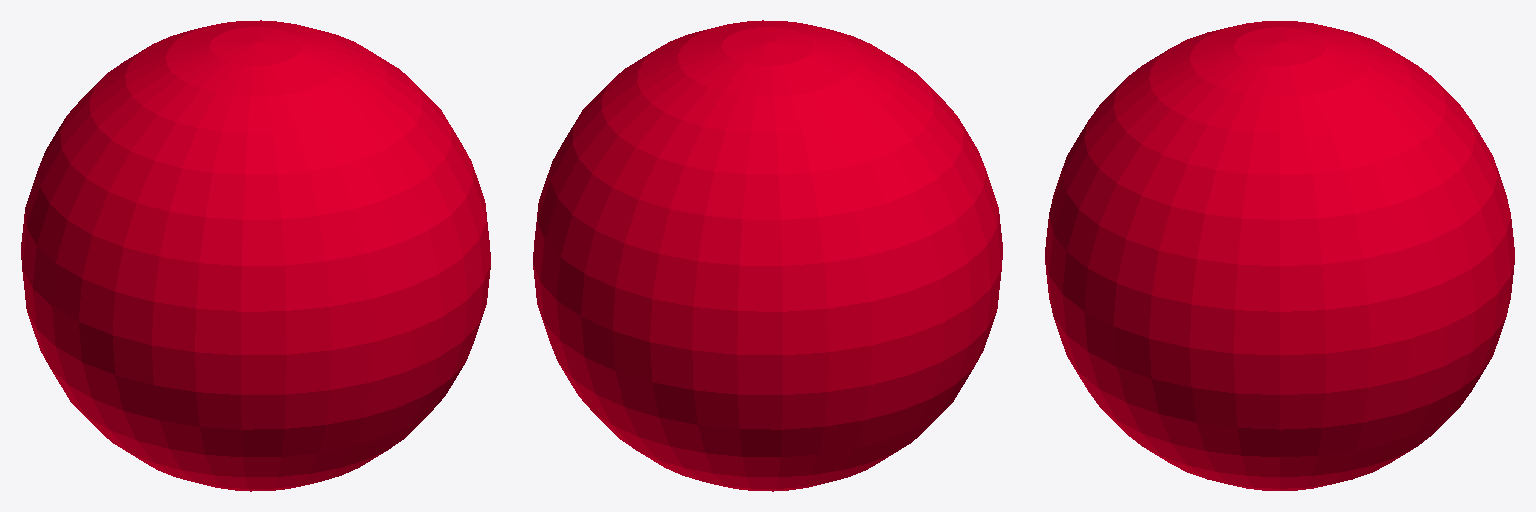
URDF robot description (universal_robot):
<?xml version="1.0"?>
<!--FOR GRIPPER, THERE IS NO LINK INERTIA DEFINED HERE-->
<robot name="universal_robot">

  <!-- DigiTac -->
  <link
    name="digitac_body_link">
  <inertial>
      <origin
        xyz="0.0044483897843889 -0.0137570316187898 -1.33478473442024E-08+0.035"
        rpy="0 0 0" />
      <mass
        value="0.00791827593084163" />
      <inertia
        ixx="7.86145751817283E-07"
        ixy="-4.85149902505629E-09"
        ixz="4.89421524982813E-12"
        iyy="1.59818901807298E-06"
        iyz="-2.18755873901251E-12"
        izz="1.06961344577448E-06" />
    </inertial>
    <visual>
      <origin
        xyz="0 0 0.035"
        rpy="0 0 0" />
      <geometry>
        <mesh
          filename="body/digitac_body.stl" />
      </geometry>
      <material name="whitish">
       <color rgba="0.8 0.8 0.8 1.0"/>
     </material>
    </visual>
    <collision>
      <origin
        xyz="0 0 0.035"
        rpy="0 0 0" />
      <geometry>
        <mesh
          filename="body/digitac_body.stl" />
      </geometry>
    </collision>
  </link>

  <link
    name="digitac_tip_link">
        <inertial>
      <origin
        xyz="1.95689617055233E-05 -0.00418318281817305 -0.00513072481258713-0.035"
        rpy="0 0 0" />
      <mass
        value="0.000211579321175967" />
      <inertia
        ixx="1.6421406108058E-08"
        ixy="-3.59682768116548E-11"
        ixz="8.26721658003392E-12"
        iyy="1.10821033019274E-08"
        iyz="-1.94916165896316E-10"
        izz="2.23470337659004E-08" />
    </inertial>
    <visual>
      <origin
        xyz="0 0 -0.035"
        rpy="0 0 0" />
      <geometry>
        <mesh
          filename="tip/digitac_skin.stl" />
      </geometry>
      <material name="black">
         <color rgba="0.0 0.0 0.0 1.0"/>
     </material>
    </visual>
    <collision>
      <origin
        xyz="0 0 -0.035"
        rpy="0 0 0" />
      <geometry>
        <mesh
          filename="tip/digitac_skin.stl" />
      </geometry>
    </collision>
  </link>


  <joint
    name="tactip_tip_to_body"
    type="fixed">
    <origin
      xyz="0 0 0"
      rpy="3.14159265358979 0 -1.5707963267949" />
    <parent
      link="digitac_body_link" />
    <child
      link="digitac_tip_link" />
    <axis
      xyz="0 0 0" />
  </joint>


  <!-- TCP -->
  <link name="tcp_link">
    <visual>
      <origin rpy="0 0 0" xyz="0 0 0"/>
      <geometry>
        <sphere radius="0.001"/>
      </geometry>
      <material name="TransparentRed">
        <color rgba="0.9 0 0.2 0.5"/>
      </material>
    </visual>
    <inertial>
      <mass value="0.0"/>
      <origin rpy="0.0 0.0 1.57" xyz="0.0 0.0 0.0"/>
      <inertia ixx="1.0" ixy="0.0" ixz="0.0" iyy="1.0" iyz="0.0" izz="1.0"/>
    </inertial>
  </link>

  <joint name="tcp_joint" type="fixed">
    <parent link="digitac_body_link"/>
    <child link="tcp_link"/>
    <origin rpy="0 0 0" xyz="0.0007 0.0 0.045"/>
  </joint>

</robot>

--- What the picture shows (computed from the rendered views, not written in the file) ---
The picture shows the robot from 3 angles, left to right: view 1: azimuth 30°, elevation 25°; view 2: azimuth 150°, elevation 25°; view 3: azimuth 270°, elevation 25°; orthographic projection.
Robot: universal_robot — 3 links, 2 joints (2 fixed); root link digitac_body_link; default pose: all joints at 0.
Visible links, largest first — view 1: tcp_link; view 2: tcp_link; view 3: tcp_link.
Link boxes in pixels (box(x1,y1,x2,y2)): tcp_link: box(21, 20, 490, 491); tcp_link: box(533, 20, 1002, 491); tcp_link: box(1045, 21, 1514, 490).
Size in the robot's own frame: 0.002 by 0.002 by 0.002 metres.
Meshes: 2 distinct files referenced, 0 mesh visuals loaded (none loaded); not drawn: 2 (reference not matched to a file when rendering).